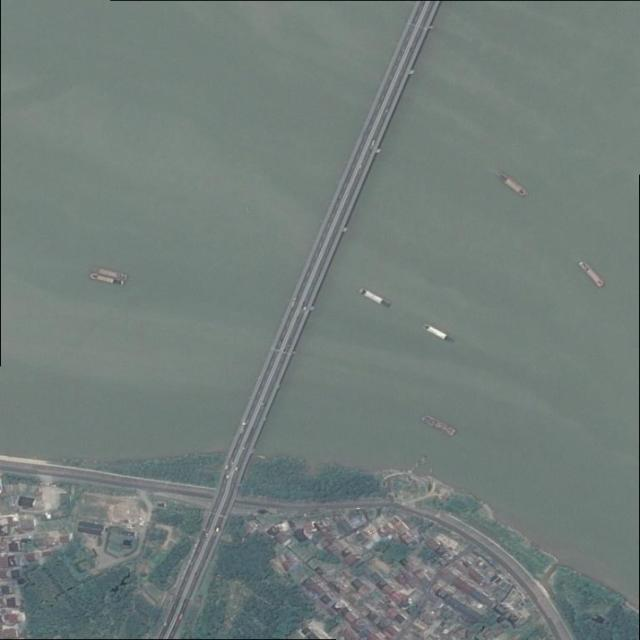ship: (421, 414, 458, 436), (497, 171, 529, 196), (423, 323, 456, 345), (579, 260, 605, 287), (360, 288, 392, 308), (91, 272, 126, 288), (97, 267, 130, 281)
